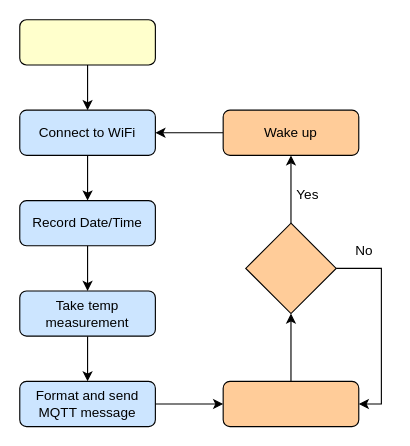
Some shapes in this 410 by 446 pixel diagram are drawn without their labels. Here are the shapes that lost their labels. From the top down, the centre of each, then its label:
point 87,42: Reset
point 290,268: One hour passed?
point 290,403: Deep sleep
